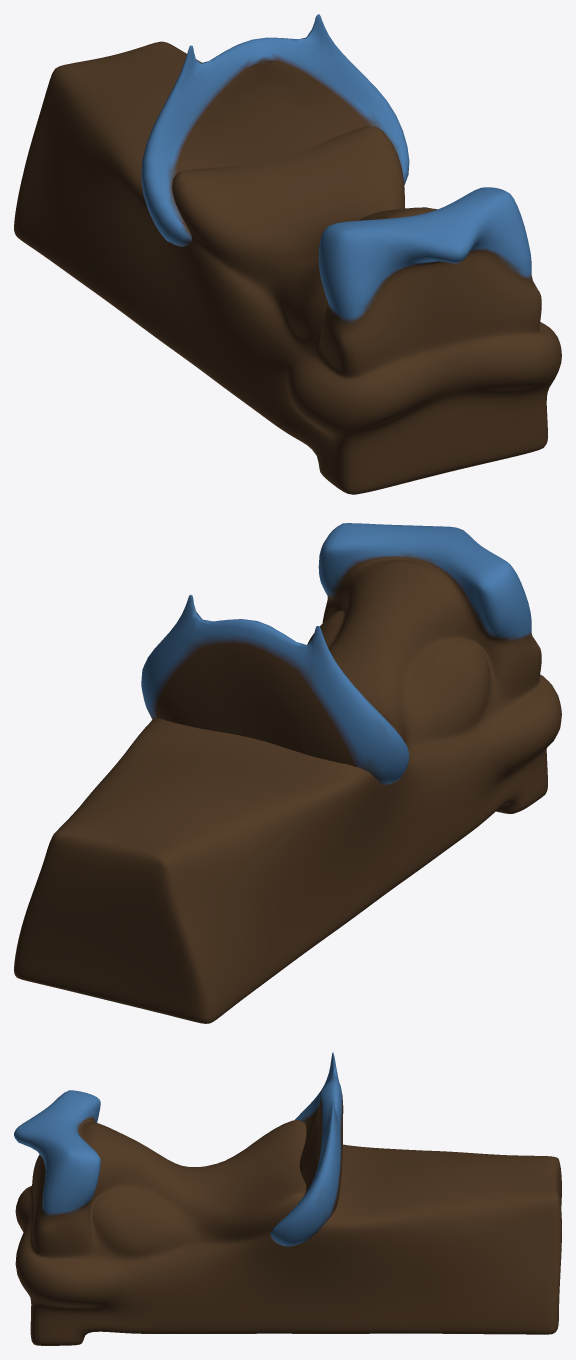
The model's file is Saddle_LOW_with_UV.fbx.
The picture shows the model from 3 angles, top to bottom: view 1: azimuth 30°, elevation 25°; view 2: azimuth 150°, elevation 25°; view 3: azimuth 270°, elevation 25°; orthographic projection. The views are drawn at different scales.
Parts seen in each view (by area): view 1: geo1; view 2: geo1; view 3: geo1.
Part boxes in pixels (<box>): geo1: <box>14,14,561,494</box>; geo1: <box>14,523,561,1023</box>; geo1: <box>14,1052,561,1345</box>.
Size of the model in its own units: 97.95 by 111 by 235.
